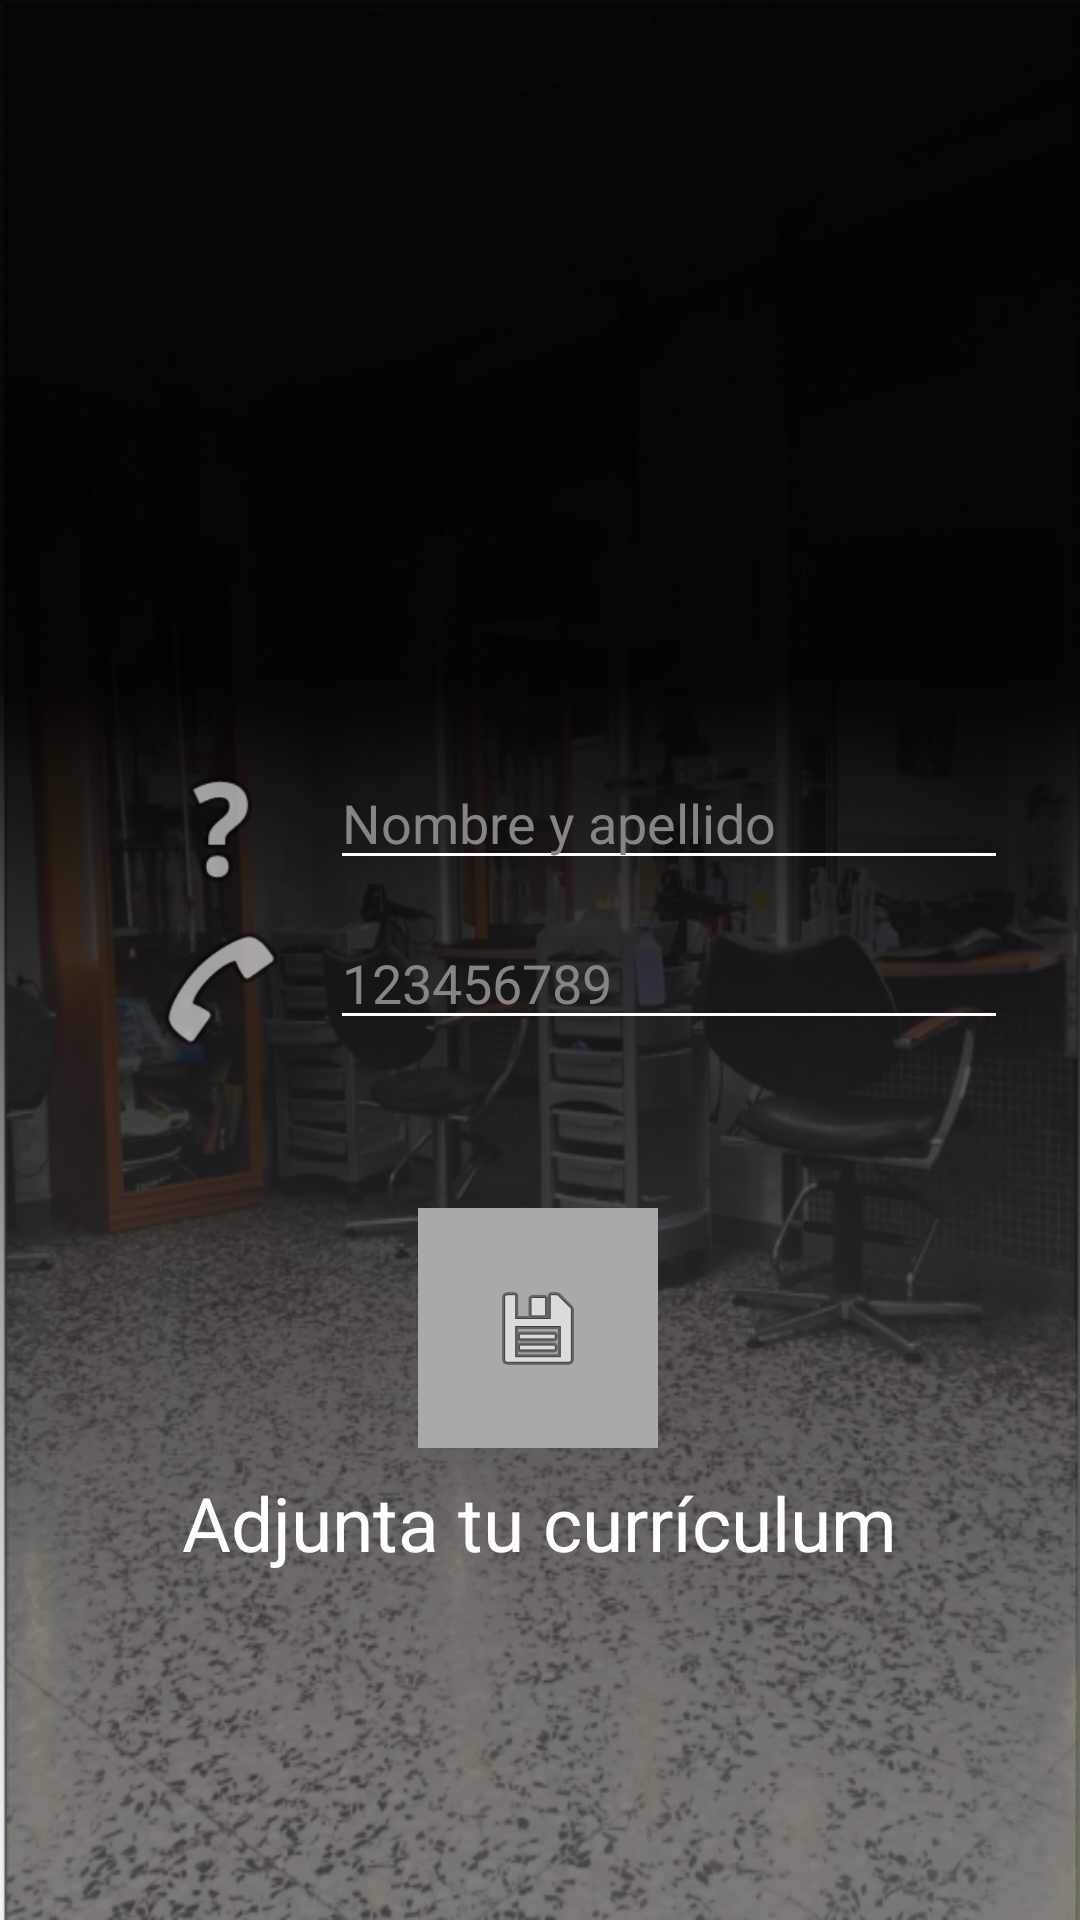

Point at icon controls on the screen. Image size 1080*1920, points as [x,y].
call: [219,994]
help: [217,838]
save: [538,1328]
